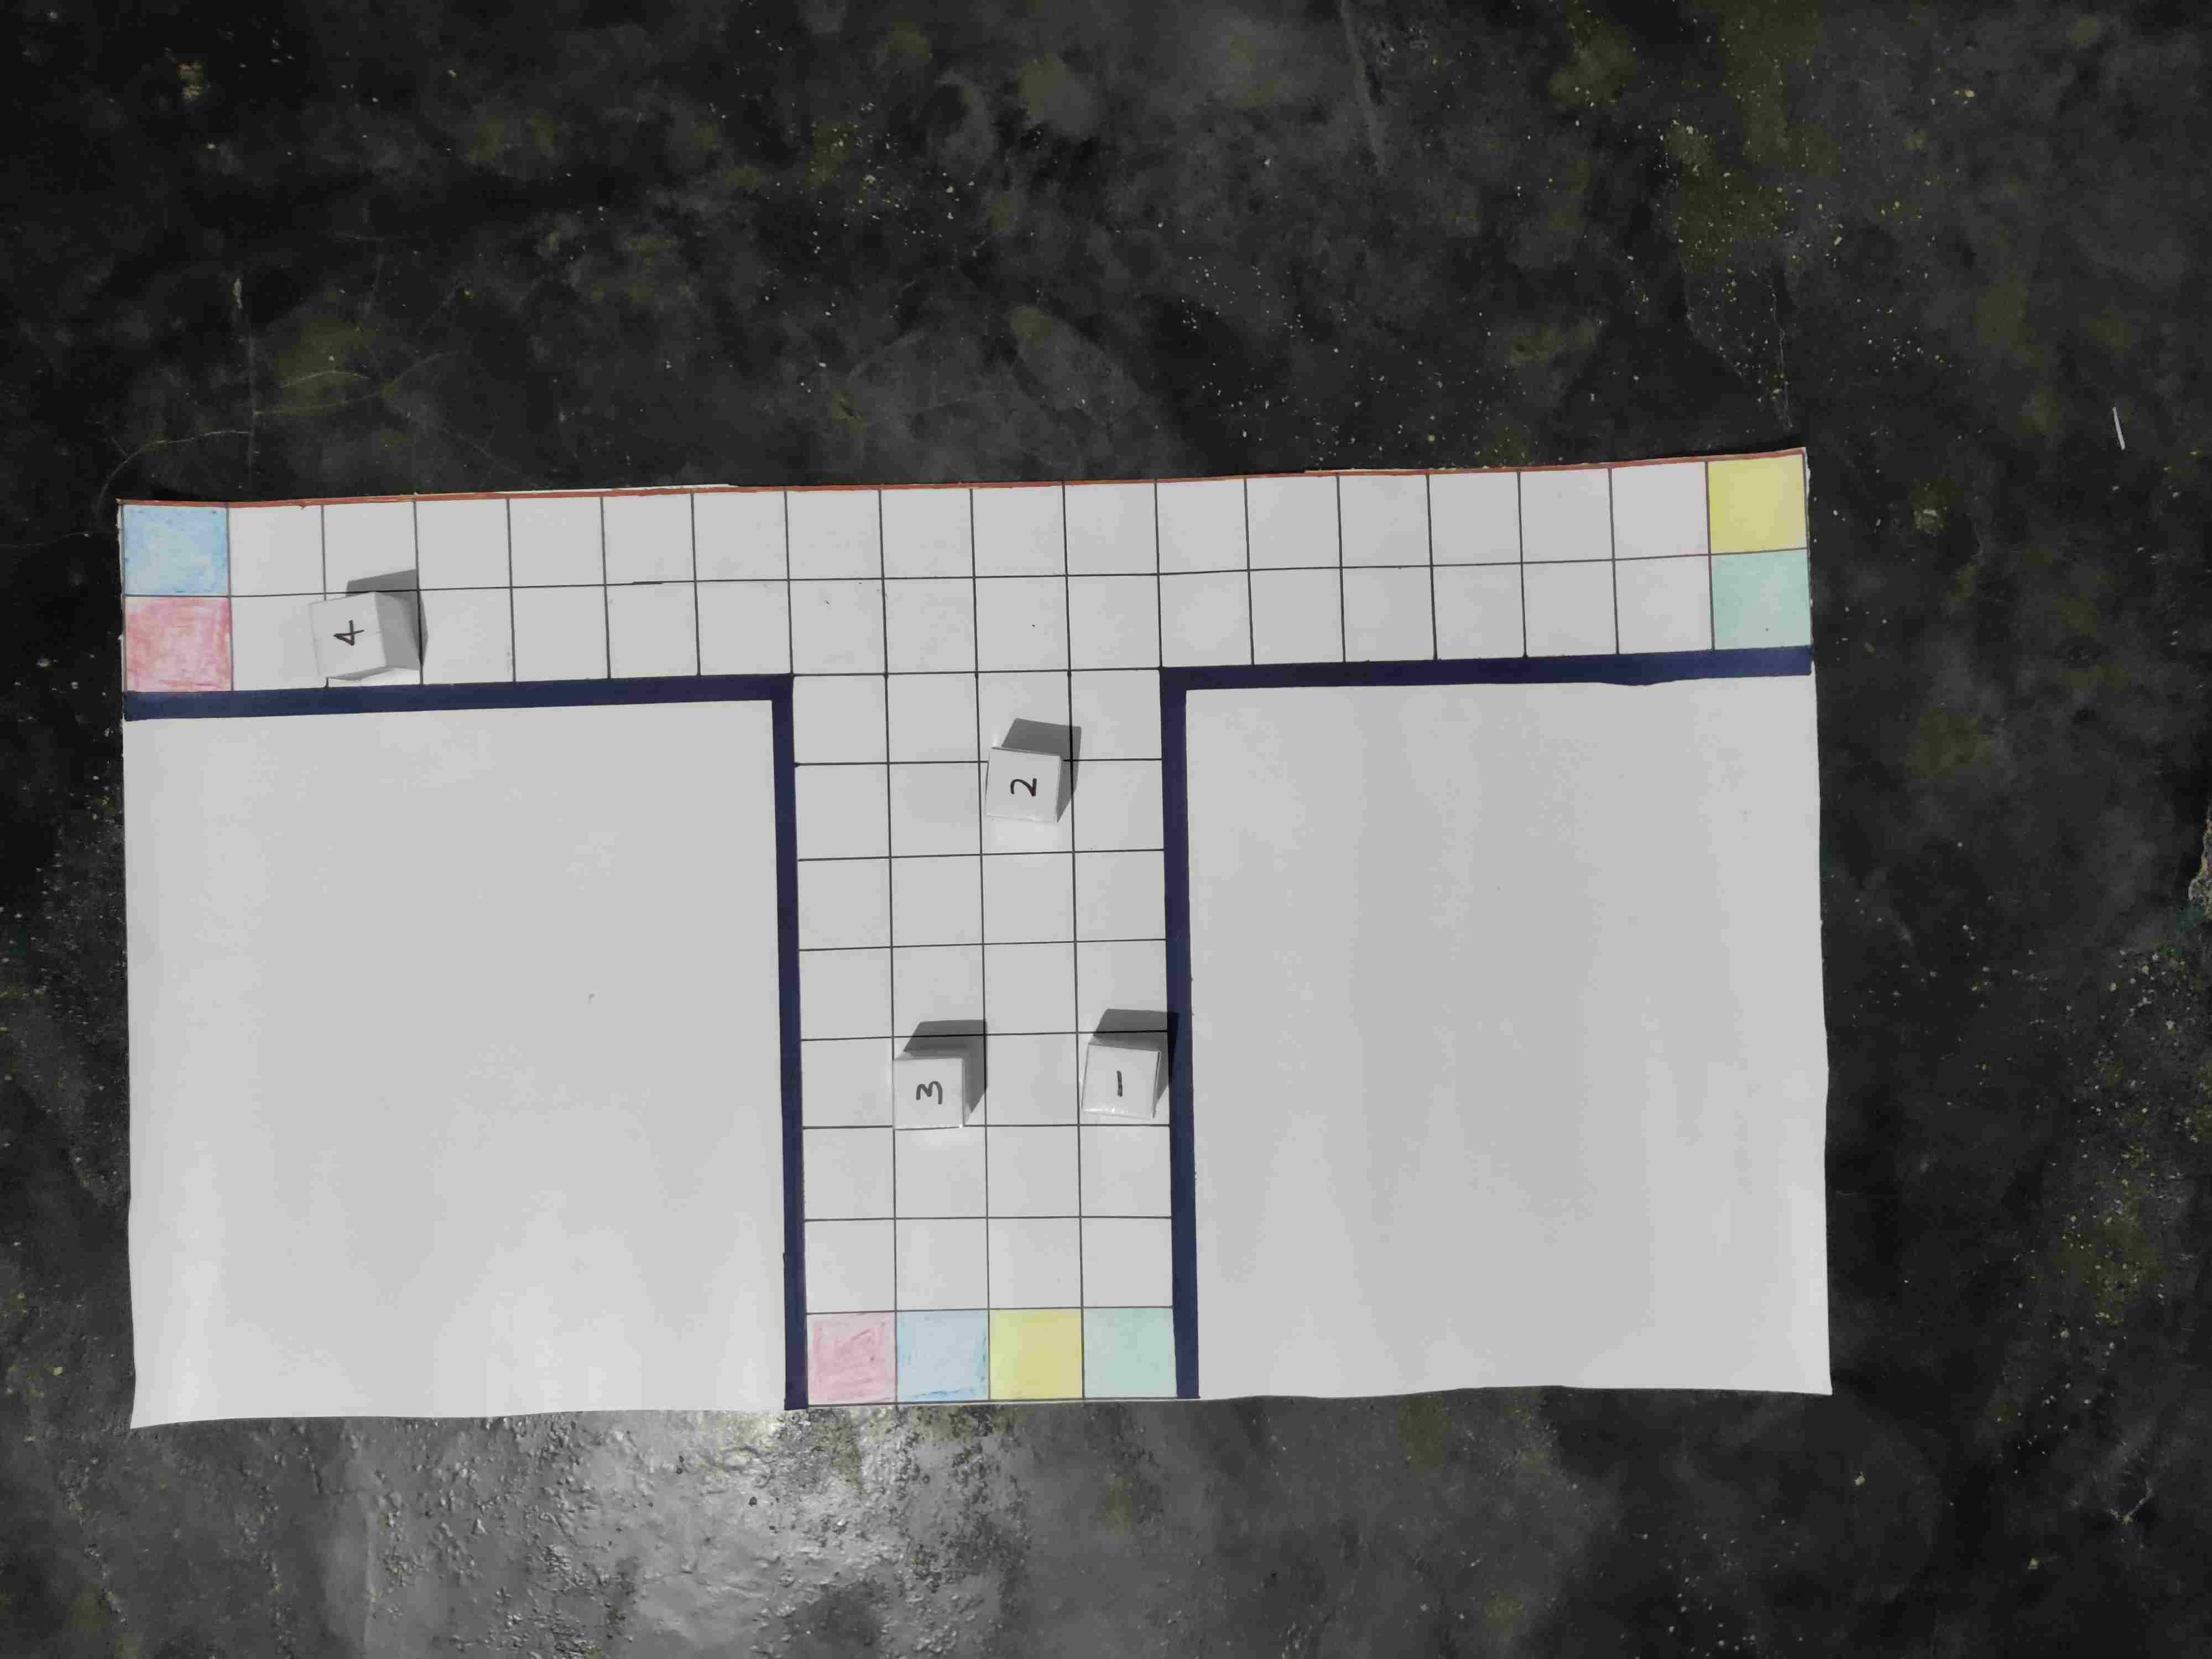arena: (117, 453, 1815, 1412)
bot: (1080, 1040, 1165, 1117), (308, 592, 383, 674), (986, 748, 1064, 821), (902, 1058, 967, 1129)
